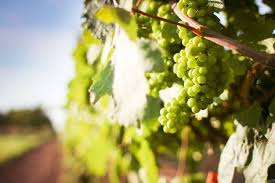grapes: (174, 29, 230, 114), (156, 98, 189, 135)
